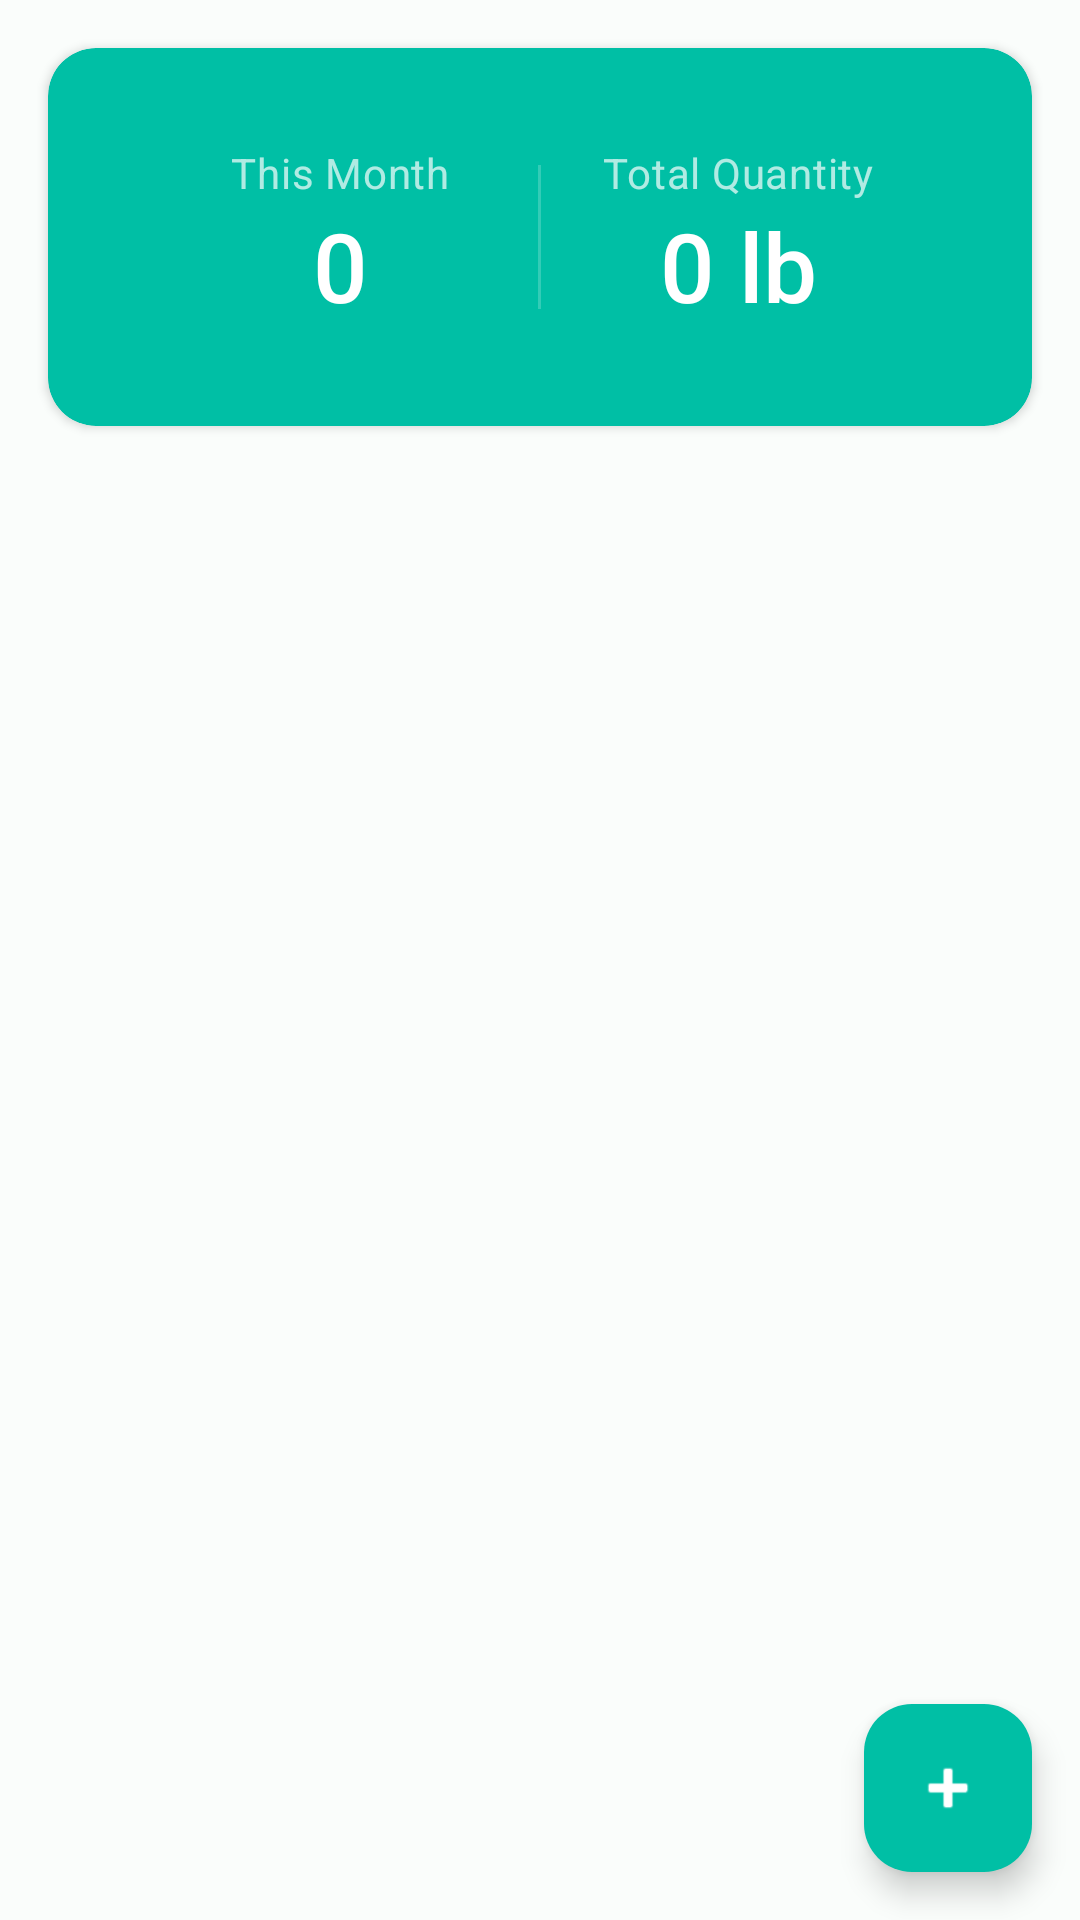

Named icons in this screenshot (1080 x 1920) and their bounding boxes, rect(x1, y1, x2, y2):
Add Feeding Record: rect(864, 1704, 1032, 1872)
